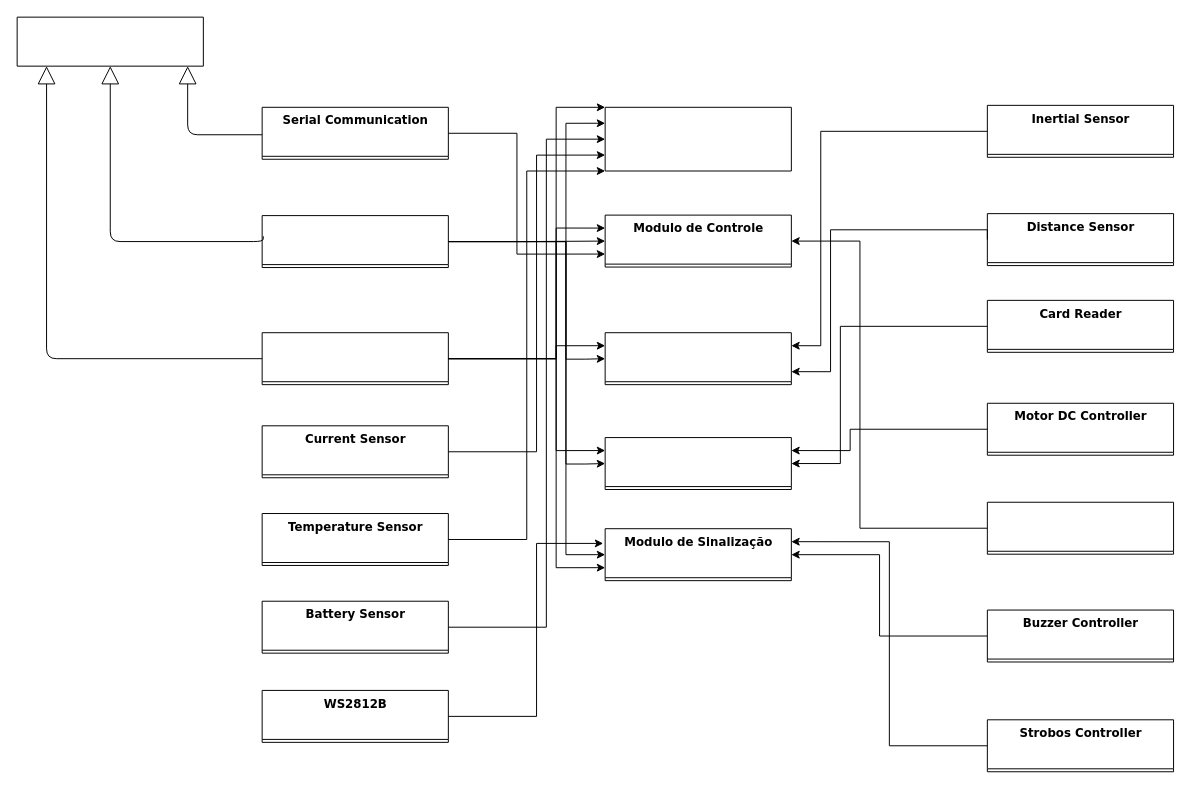
The diagram is 1191 pixels wide and 789 high, and some of its shapes have lost their labels. The box of each missing label's shape, as (x1, y1, x2, y2) in pixels:
Communication: (16, 16, 203, 66)
Drive Controller: (986, 501, 1174, 554)
I2C Communication: (261, 215, 448, 268)
Modulo de Interface Com Usuário: (604, 437, 791, 490)
Modulo de Percepção Externa: (604, 332, 791, 385)
Modulo de Telemetria: (604, 106, 791, 171)
SPI Communication: (261, 332, 448, 385)
